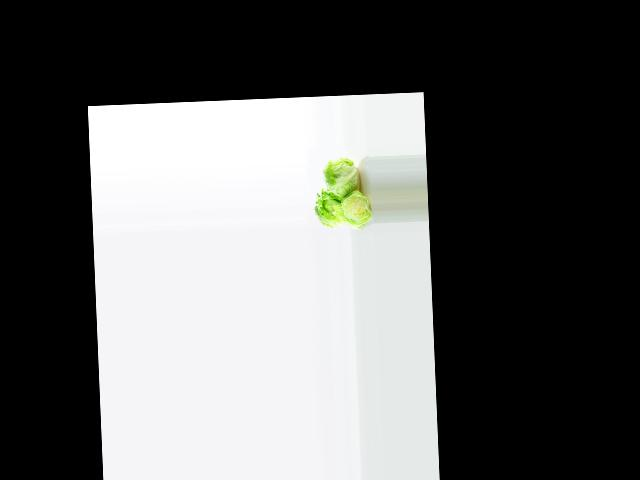lettuce: (310, 185, 345, 229)
